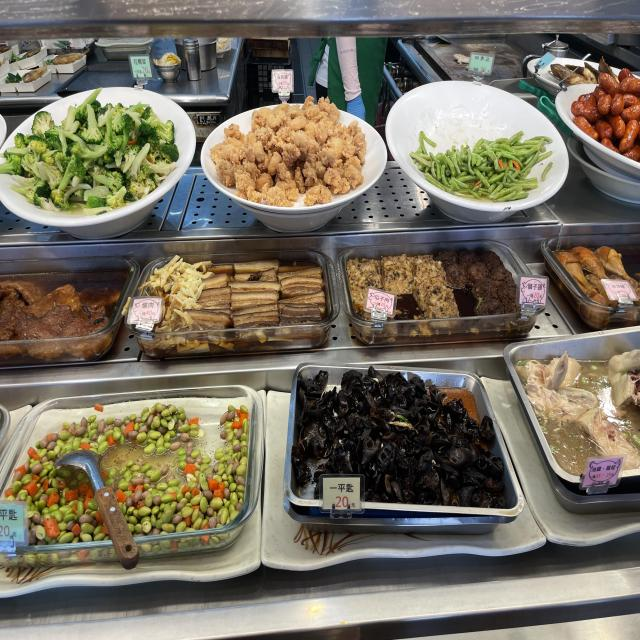Broccoli: (37, 125, 142, 192)
